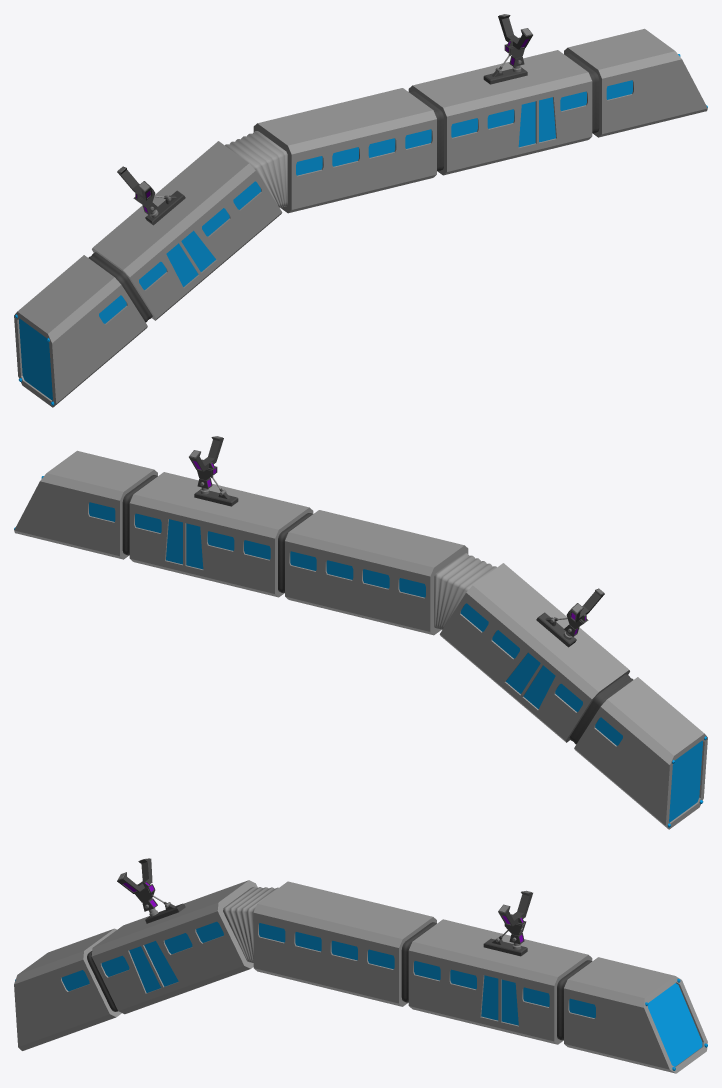
File: KF_Derailed_Train_High_Poly.fbx
The picture shows the model from 3 angles, top to bottom: view 1: azimuth 30°, elevation 25°; view 2: azimuth 150°, elevation 25°; view 3: azimuth 330°, elevation 25°; orthographic projection.
Parts seen in each view (by area): view 1: KF_Derailed_Train_High_Poly; view 2: KF_Derailed_Train_High_Poly; view 3: KF_Derailed_Train_High_Poly.
Part boxes in pixels (x1=…): KF_Derailed_Train_High_Poly: x1=14, y1=14, x2=707, y2=407; KF_Derailed_Train_High_Poly: x1=14, y1=436, x2=707, y2=829; KF_Derailed_Train_High_Poly: x1=14, y1=858, x2=707, y2=1073.
Size of the model in its own units: 7888 by 2943 by 788.
